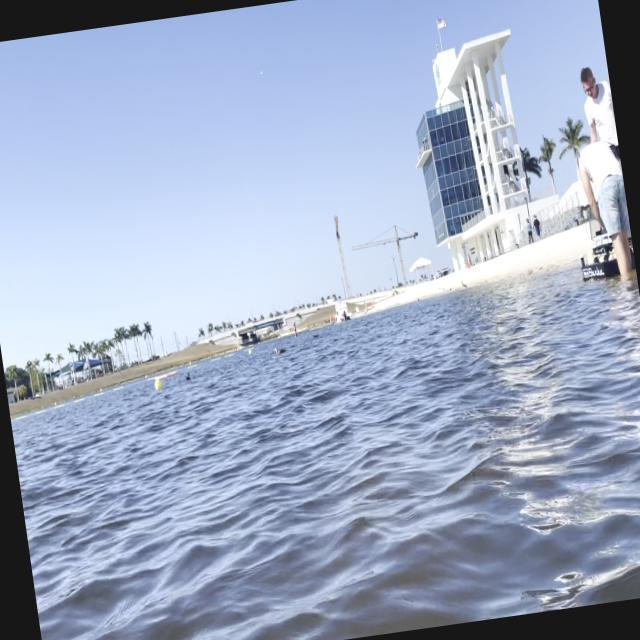buoy: (152, 376, 164, 394)
